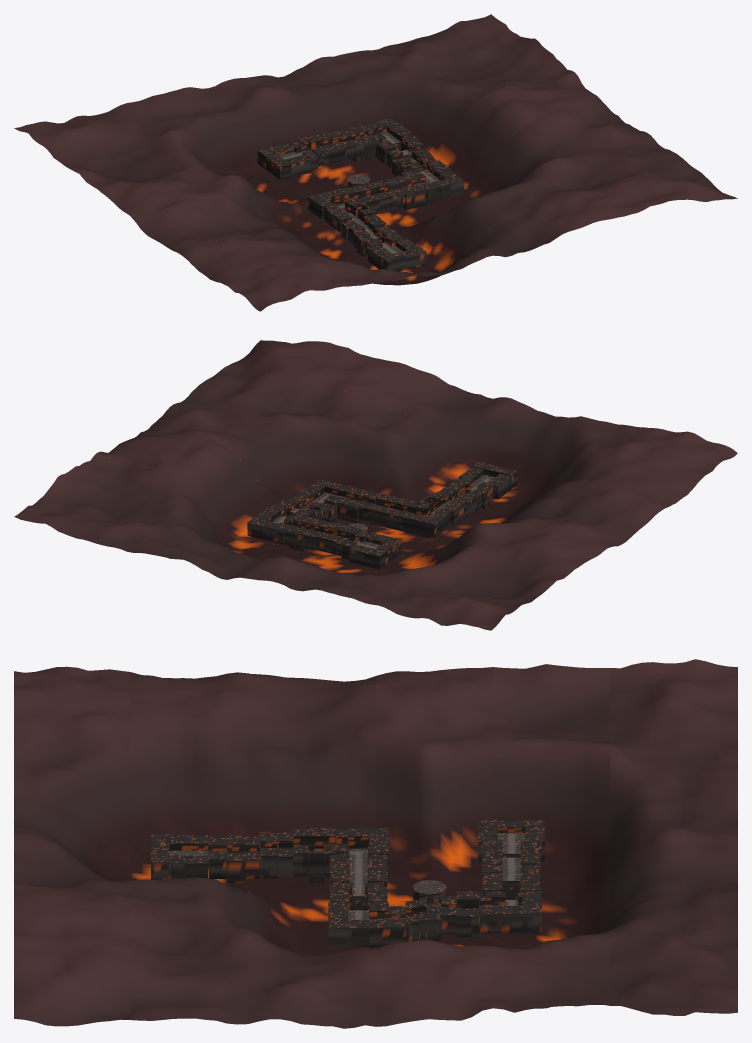
File: ash_storm_terrain.glb
The picture shows the model from 3 angles, top to bottom: view 1: azimuth 30°, elevation 25°; view 2: azimuth 150°, elevation 25°; view 3: azimuth 270°, elevation 25°; orthographic projection. The views are drawn at different scales.
Parts seen in each view (by area): view 1: backdrop_5, backdrop_4, backdrop_2, backdrop_3, backdrop_1, backdrop_0, terrain_D, terrain_G, terrain_H, terrain_J, terrain_B, terrain_A (+4 smaller); view 2: backdrop_0, backdrop_1, backdrop_5, backdrop_2, backdrop_4, backdrop_3, terrain_D, terrain_H, terrain_J, terrain_I, terrain_B, terrain_E (+4 smaller); view 3: backdrop_5, backdrop_0, backdrop_1, backdrop_2, backdrop_4, backdrop_3, terrain_G, terrain_B, terrain_H, terrain_D, terrain_A, terrain_F (+4 smaller).
Boxes of the visible parts, x1,y1,x2,y2 form: backdrop_5: (14,14,534,164); backdrop_4: (58,39,574,195); backdrop_2: (137,112,657,259); backdrop_3: (97,72,613,226); backdrop_1: (181,144,697,284); backdrop_0: (221,170,737,311); terrain_D: (308,180,400,219); terrain_G: (376,128,435,176); terrain_H: (326,118,405,161); terrain_J: (257,143,370,187); terrain_B: (341,214,403,256); terrain_A: (367,238,426,271); backdrop_0: (221,340,737,484); backdrop_1: (181,370,697,517); backdrop_5: (14,477,534,630); backdrop_2: (137,402,657,546); backdrop_4: (57,452,574,602); backdrop_3: (98,434,613,573); terrain_D: (363,493,448,538); terrain_H: (247,512,332,551); terrain_J: (348,523,401,569); terrain_I: (314,522,369,559); terrain_B: (436,477,494,516); terrain_E: (324,485,379,523); backdrop_5: (610,659,737,1015); backdrop_0: (14,666,130,1026); backdrop_1: (131,672,248,1024); backdrop_2: (248,673,375,1028); backdrop_4: (493,664,610,1012); backdrop_3: (376,667,492,1026); terrain_G: (405,891,500,941); terrain_B: (208,832,293,882); terrain_H: (482,865,541,933); terrain_D: (329,828,388,910); terrain_A: (151,834,208,879); terrain_F: (328,906,405,948).
Bounding box in the file's own units: 532 × 65.37 × 476.
